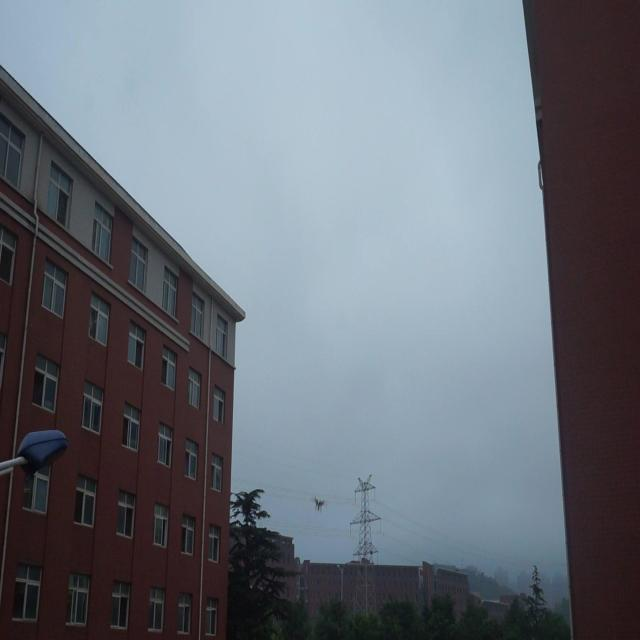drone: (312, 494, 326, 513)
